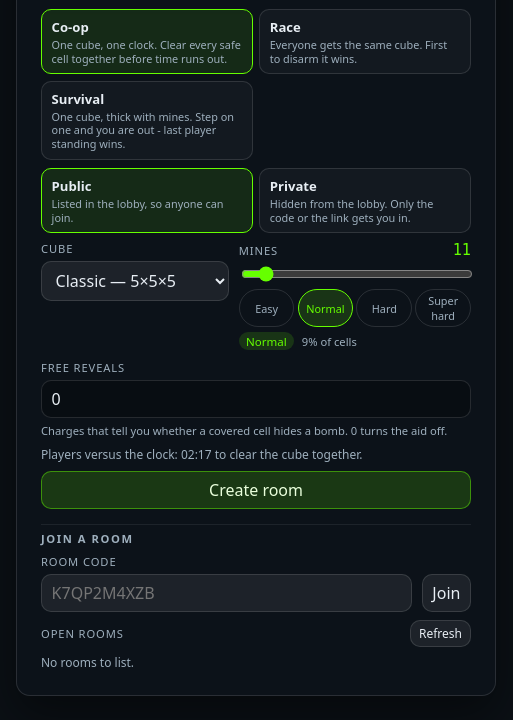
Scenario: WelcomeScreen › refuses to join without a code
(page scrolled)
Expected: the text "No rooms to list." is shown, [41,654,134,671]
Click the button with test id "welcome-join" at (446, 593), box [422,574,471,612]
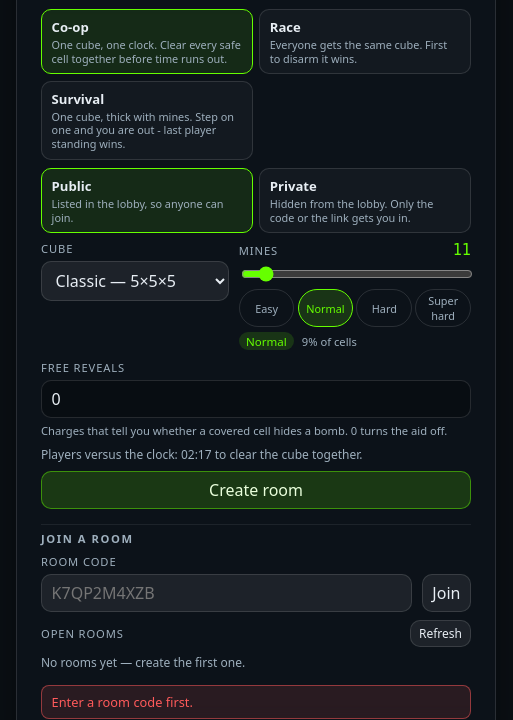
Now the message with test id "welcome-error" reads "Enter a room code first.", box [52,693,193,711]
